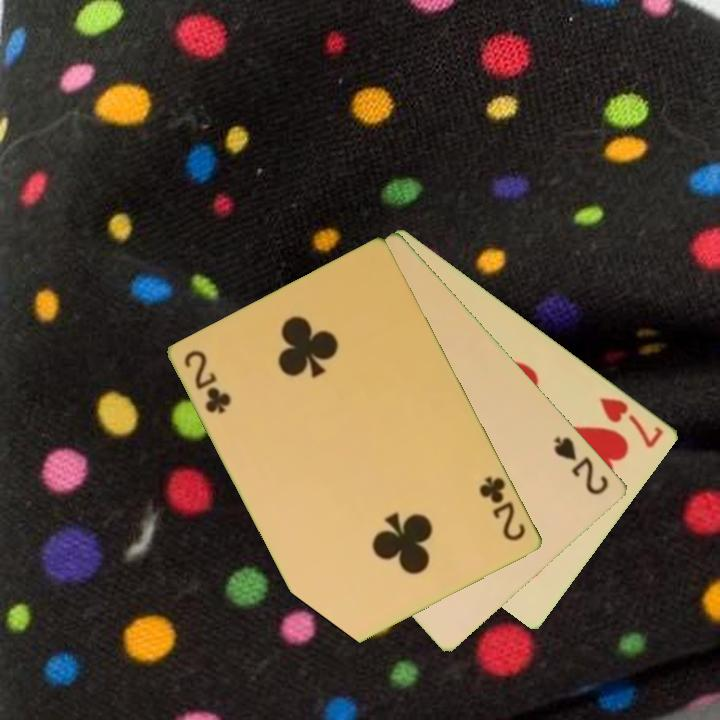2c: (180, 346, 235, 417), (476, 472, 529, 545)
2s: (550, 432, 613, 498)
7h: (596, 393, 667, 451)
